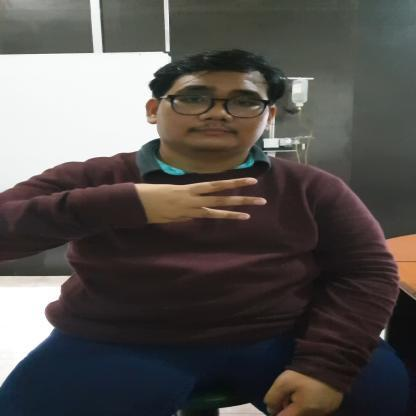E: (140, 176, 268, 224)
